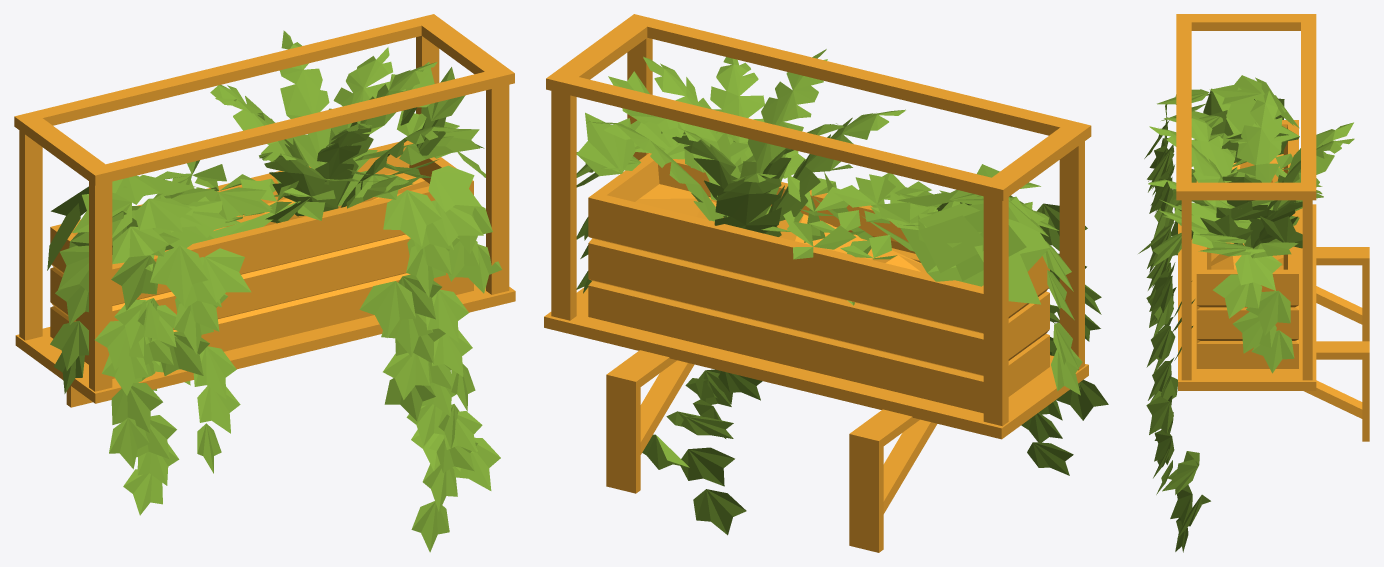
The model's file is SM_Pot_Window_City_B.fbx.
The picture shows the model from 3 angles, left to right: view 1: azimuth 30°, elevation 25°; view 2: azimuth 150°, elevation 25°; view 3: azimuth 270°, elevation 25°; orthographic projection. The views are drawn at different scales.
Parts seen in each view (by area): view 1: SM_Pot_Window_City_B; view 2: SM_Pot_Window_City_B; view 3: SM_Pot_Window_City_B.
Part boxes in pixels (<box>): SM_Pot_Window_City_B: <box>14,14,515,552</box>; SM_Pot_Window_City_B: <box>544,14,1108,552</box>; SM_Pot_Window_City_B: <box>1138,14,1369,552</box>.
Bounding box in the file's own units: 1.14 × 1.12 × 0.5952.
